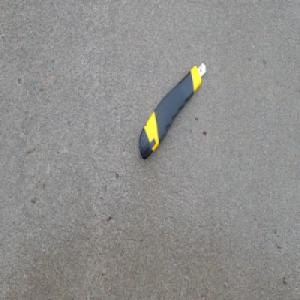Cutter: (138, 61, 206, 162)
